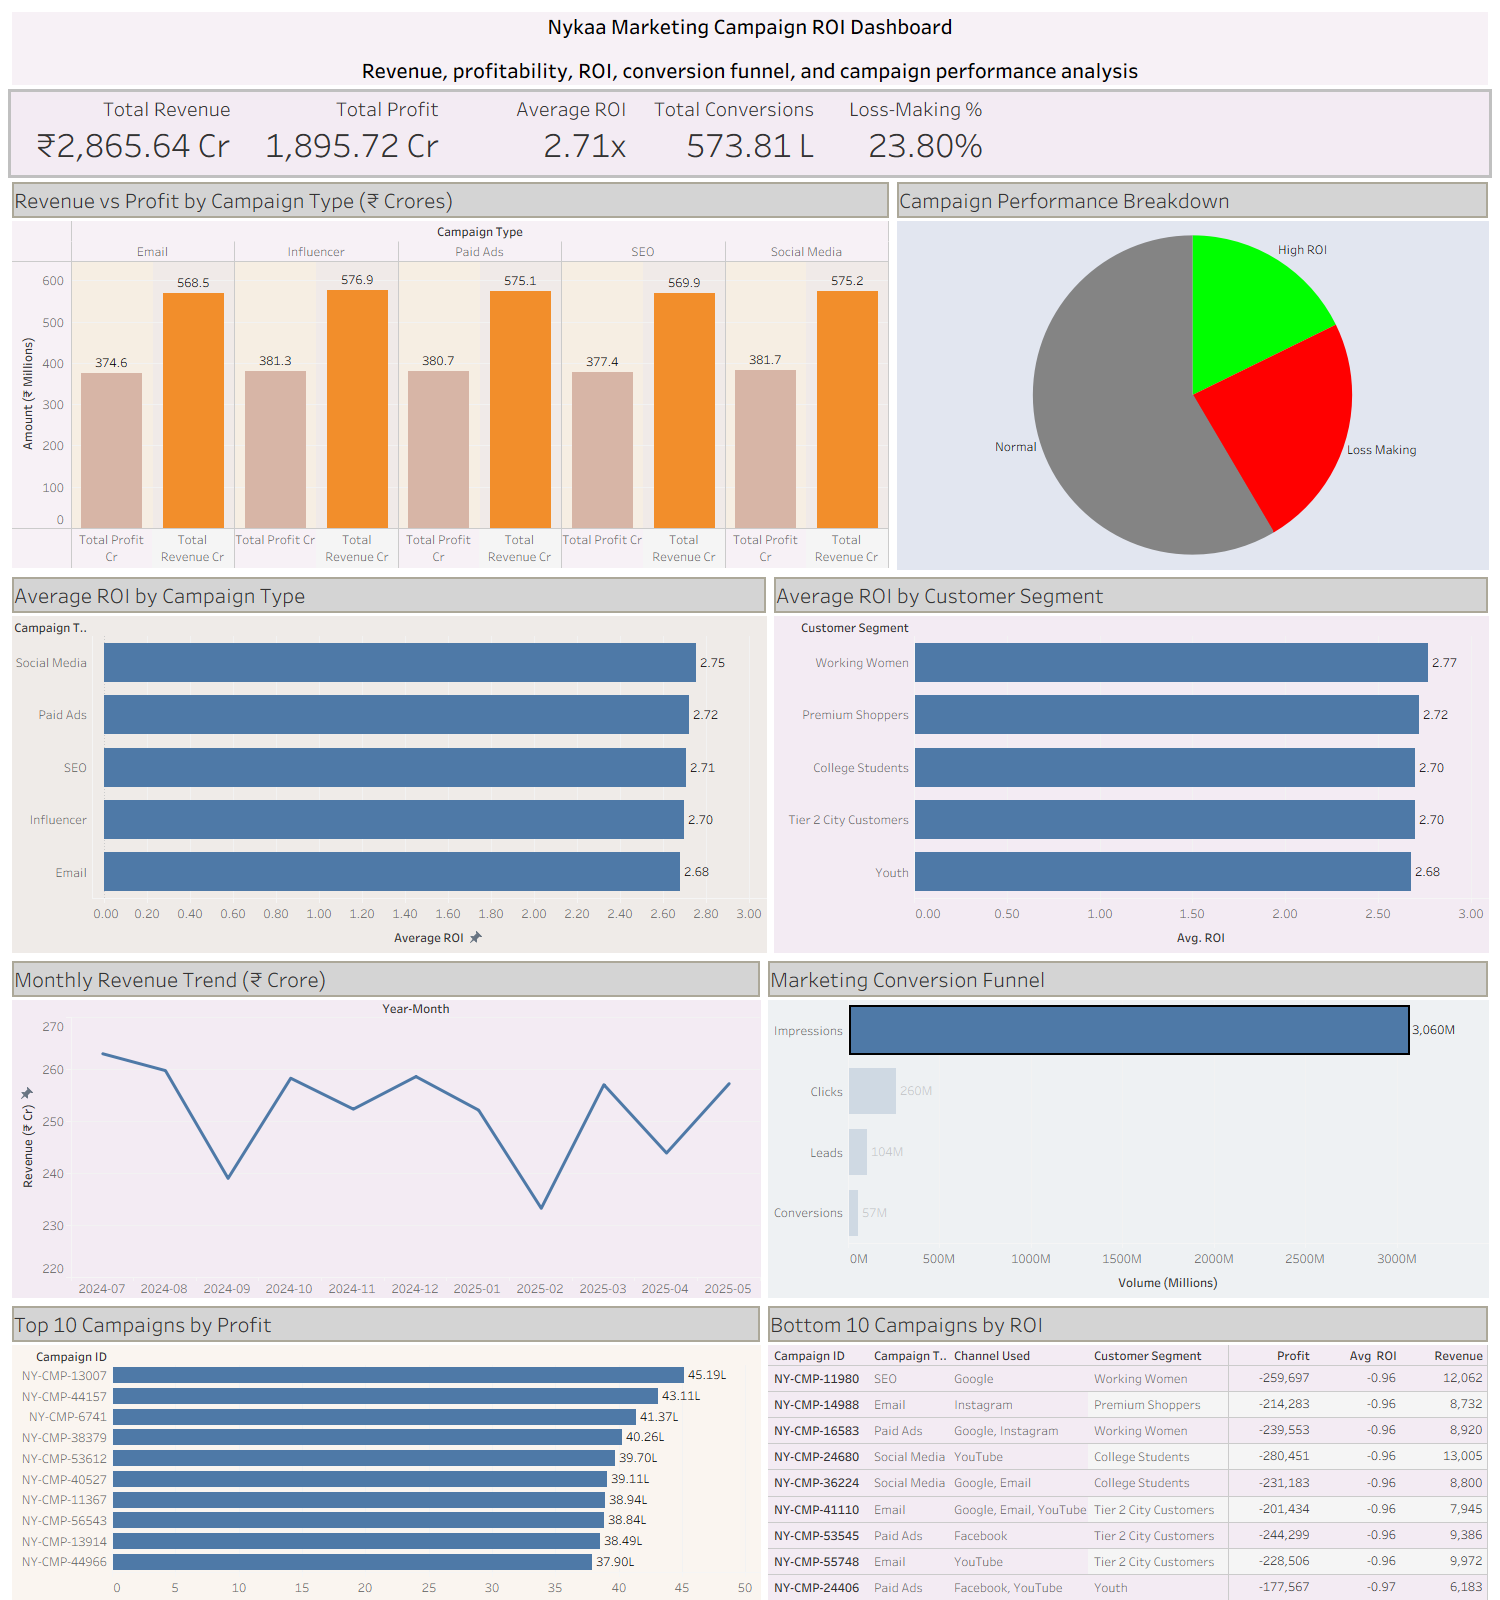

The dashboard page shown, as its layout file describes it:
{"tool":"tableau","page":{"name":"Dashboard 1","canvas":[1500,1600],"ordinal":0},"visuals":[{"type":"text","box":[8,8,1484,81]},{"type":"worksheet","title":"KPI- Total revenue","mark":"Automatic","box":[11,92,228,83]},{"type":"worksheet","title":"KPI - Total Profit","mark":"Automatic","box":[239,92,208,83]},{"type":"worksheet","title":"KPI - Average ROI","mark":"Automatic","box":[447,92,188,83]},{"type":"worksheet","title":"KPI - Total Conversions","mark":"Automatic","box":[635,92,188,83]},{"type":"worksheet","title":"Loss-Making %","mark":"Automatic","box":[823,92,168,83]},{"type":"worksheet","title":"Revenue vs Profit by Campaign Type","mark":"Bar","cols":["Campaign_Type"],"box":[8,178,885.2,395]},{"type":"worksheet","title":"Campaign Performance Breakdown","mark":"Pie","box":[893.2,178,598.8,395]},{"type":"worksheet","title":"Average ROI by Campaign Type","mark":"Bar","rows":["Campaign_Type"],"cols":["ROI"],"box":[8,573,761.6,384]},{"type":"worksheet","title":"Average ROI by Customer Segment","mark":"Bar","rows":["Customer_Segment"],"cols":["ROI"],"box":[769.6,573,722.4,384]},{"type":"worksheet","title":"Monthly Revenue Trend","mark":"Line","rows":["Calculation_3000032748892160"],"cols":["YEAR-MONTH"],"box":[8,957,756,345]},{"type":"worksheet","title":"Marketing Conversion Funnel","mark":"Bar","box":[764,957,728,345]},{"type":"worksheet","title":"Top 10 Campaigns by Profit","mark":"Automatic","rows":["Campaign_ID"],"cols":["Calculation_3000032769724423"],"box":[8,1302,756,290]},{"type":"worksheet","title":"Bottom 10 Campaigns by ROI","mark":"Text","rows":["Campaign_ID","Campaign_Type","Channel_Used","Customer_Segment"],"box":[764,1302,728,290]}]}

Visuals, with their boxes in screenshot pixels (x1, y1, x2, y2), scaled from the page's 1500x1600 canvas onto the 1500x1600 screenshot:
text: <box>8,8,1492,89</box>
"KPI- Total revenue" worksheet: <box>11,92,239,175</box>
"KPI - Total Profit" worksheet: <box>239,92,447,175</box>
"KPI - Average ROI" worksheet: <box>447,92,635,175</box>
"KPI - Total Conversions" worksheet: <box>635,92,823,175</box>
"Loss-Making %" worksheet: <box>823,92,991,175</box>
"Revenue vs Profit by Campaign Type" worksheet (Bar marks): <box>8,178,893,573</box>
"Campaign Performance Breakdown" worksheet (Pie marks): <box>893,178,1492,573</box>
"Average ROI by Campaign Type" worksheet (Bar marks): <box>8,573,770,957</box>
"Average ROI by Customer Segment" worksheet (Bar marks): <box>770,573,1492,957</box>
"Monthly Revenue Trend" worksheet (Line marks): <box>8,957,764,1302</box>
"Marketing Conversion Funnel" worksheet (Bar marks): <box>764,957,1492,1302</box>
"Top 10 Campaigns by Profit" worksheet: <box>8,1302,764,1592</box>
"Bottom 10 Campaigns by ROI" worksheet (Text marks): <box>764,1302,1492,1592</box>
